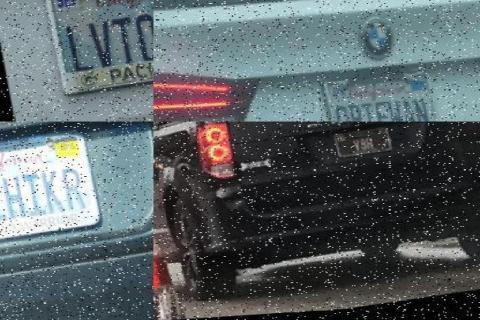LicensePlate: (0, 131, 104, 249), (39, 0, 153, 96), (321, 64, 442, 122), (331, 129, 390, 160)
